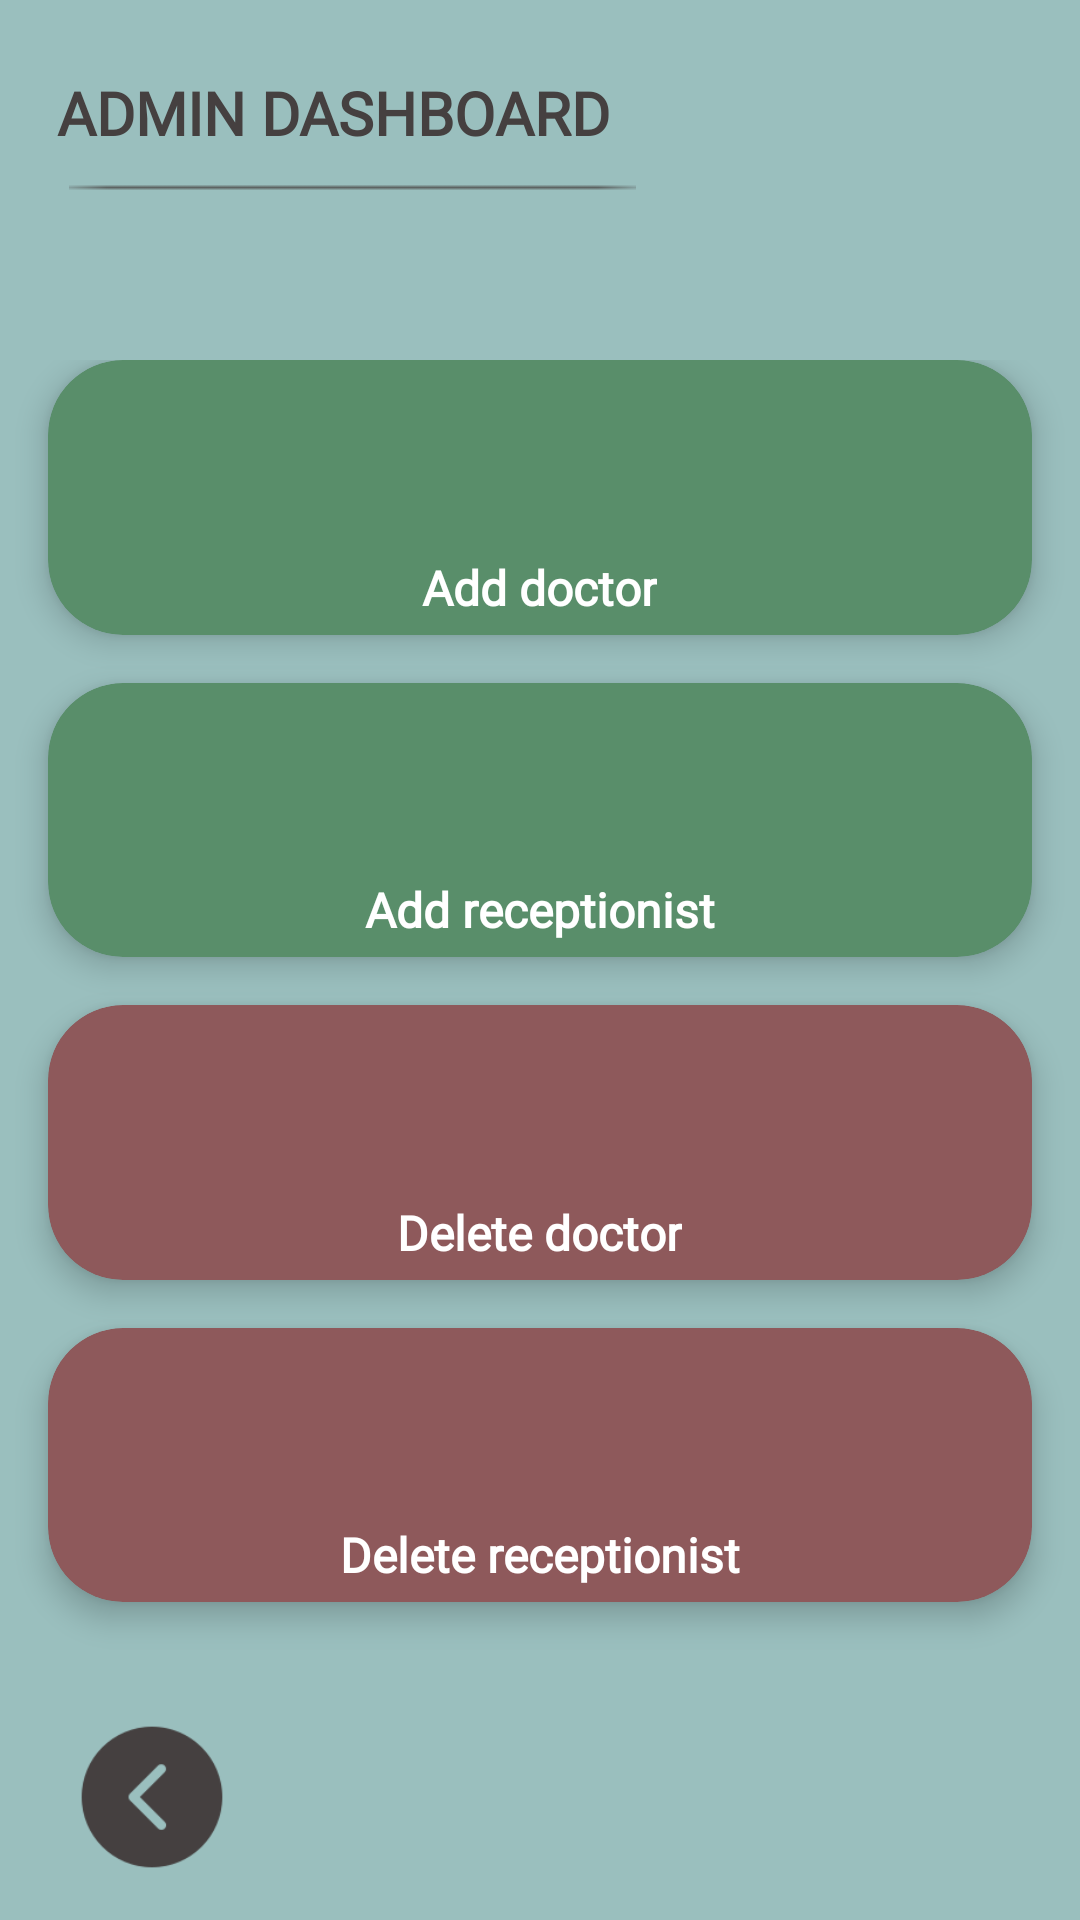

Icon bounding boxes for this 1080w x 1920h phone screenshot, format bbox(x1, y1, x2, y2):
back: bbox(81, 1726, 223, 1868)
